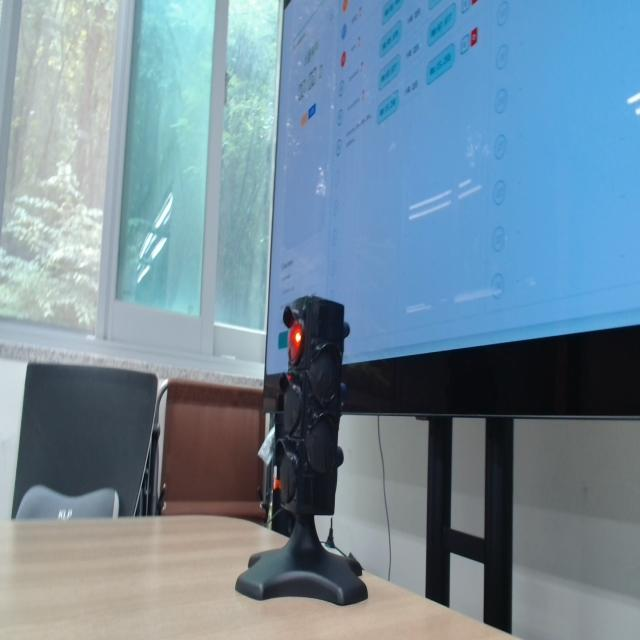red_light: (288, 322, 303, 364)
